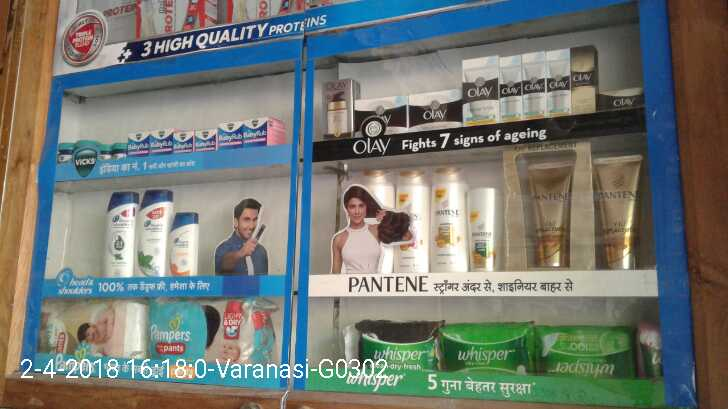vicks: (58, 117, 287, 167)
